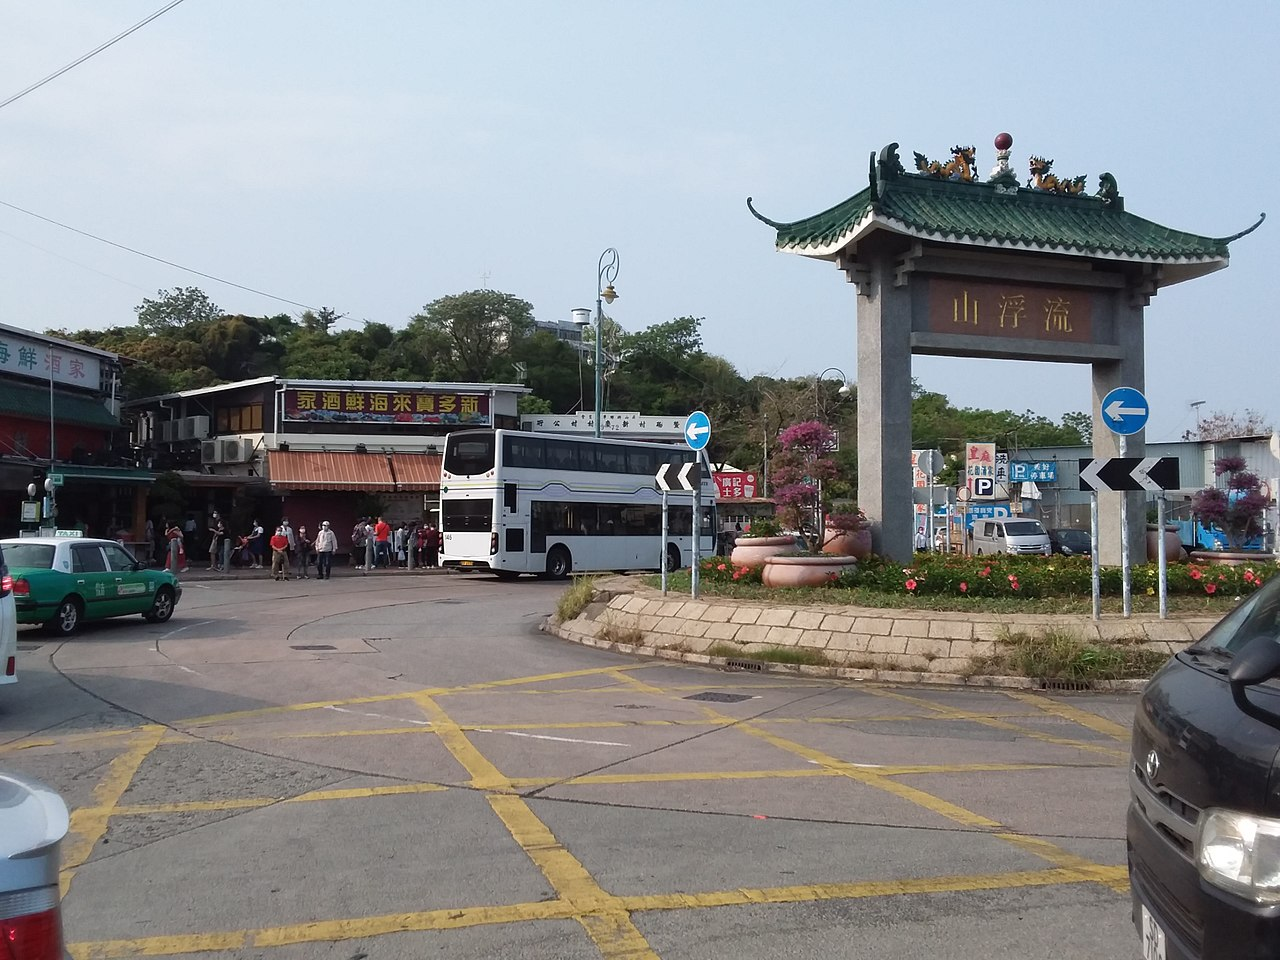Parking: (972, 478, 993, 498), (1011, 461, 1029, 478)
Turn Left: (1101, 385, 1151, 434), (682, 409, 712, 451)
Turn Left(quick): (1076, 458, 1180, 492), (655, 464, 700, 491)
